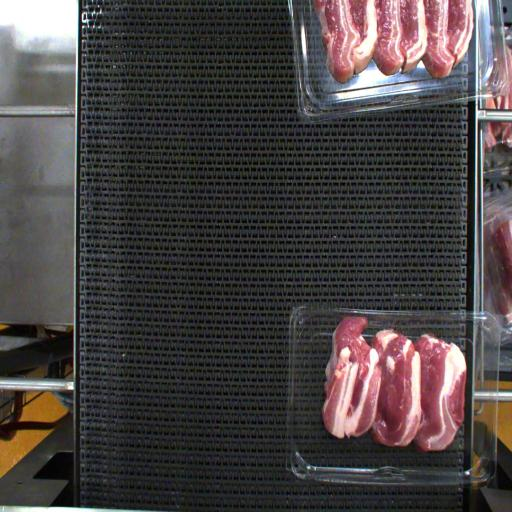packaging-error: (337, 300, 376, 333)
